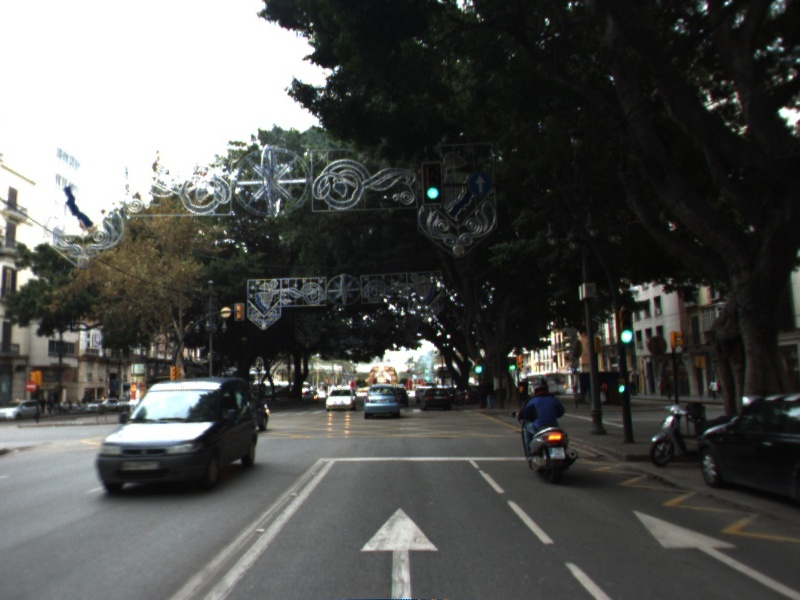STRAIGHT: (628, 505, 800, 600), (356, 502, 443, 600)
